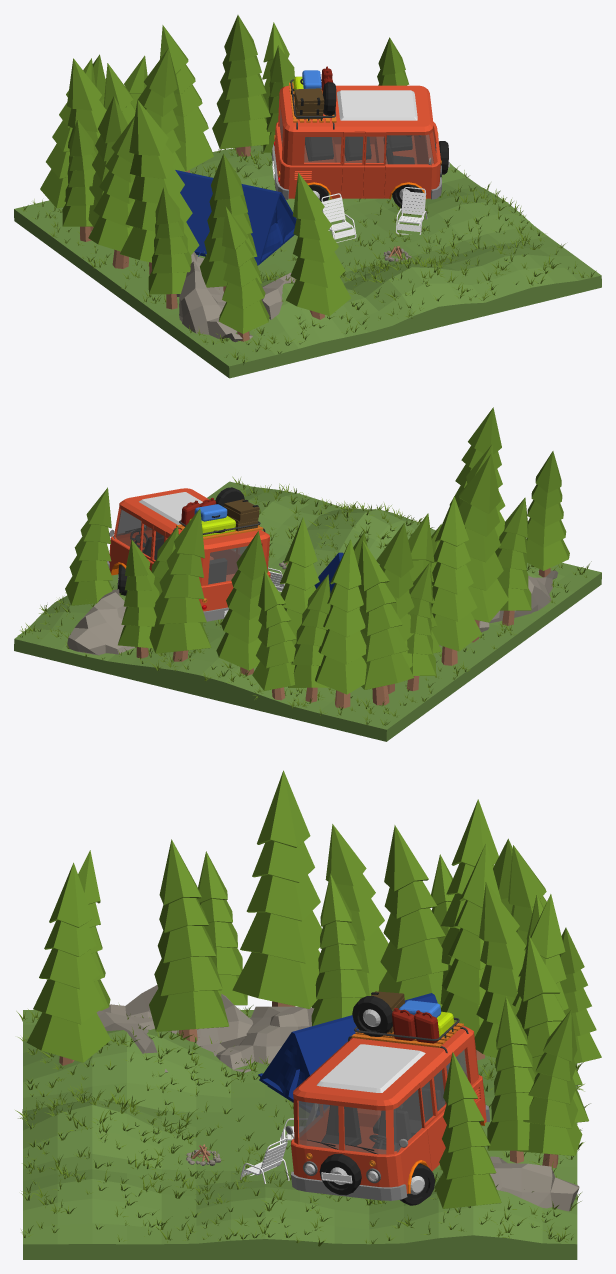
3 views of the same model, one above another, from view 1: azimuth 30°, elevation 25°; view 2: azimuth 150°, elevation 25°; view 3: azimuth 270°, elevation 25° (orthographic). The views are drawn at different scales.
Parts seen in each view (by area): view 1: Cube.019, Cube, object 67, Cone.027, Cone.025, Cone.029, Cube.014, Cone.030, Cone.002, camlar, Cone.026, Cone.009 (+18 smaller); view 2: Cube.019, Cube, Cone.029, Cone.000, Cone.002, Cone.027, Cone.021, object 67, Cone.023, Cone.030, Cone.005, Cone.028 (+14 smaller); view 3: Cube.019, Cube, Cone.027, object 67, Cone.025, Cone.026, Cone.022, Cone.028, Cone.007, camlar, Cone.006, Cone.003 (+27 smaller).
Boxes of the visible parts, x1,y1,x2,y2 form: Cube.019: [14, 145, 601, 378]; Cube: [274, 85, 440, 198]; object 67: [21, 145, 596, 364]; Cone.027: [120, 99, 199, 274]; Cone.025: [286, 172, 350, 319]; Cone.029: [212, 15, 270, 156]; Cube.014: [175, 170, 296, 265]; Cone.030: [218, 206, 269, 341]; Cone.002: [88, 116, 135, 268]; camlar: [279, 110, 435, 164]; Cone.026: [200, 153, 261, 291]; Cone.009: [148, 187, 191, 309]; Cube.019: [14, 481, 601, 741]; Cube: [109, 488, 270, 611]; Cone.029: [149, 508, 211, 661]; Cone.000: [315, 539, 366, 708]; Cone.002: [431, 496, 481, 665]; Cone.027: [458, 453, 508, 642]; Cone.021: [358, 540, 414, 705]; object 67: [18, 476, 591, 726]; Cone.023: [216, 531, 267, 675]; Cone.030: [526, 451, 569, 577]; Cone.005: [252, 570, 296, 700]; Cone.028: [65, 487, 112, 605]; Cube.019: [23, 1010, 577, 1259]; Cube: [291, 1026, 486, 1193]; Cone.027: [232, 770, 322, 1008]; object 67: [15, 1004, 590, 1246]; Cone.025: [26, 862, 110, 1065]; Cone.026: [149, 839, 228, 1041]; Cone.022: [378, 825, 448, 1008]; Cone.028: [434, 1052, 501, 1208]; Cone.007: [517, 1010, 582, 1167]; camlar: [298, 1049, 467, 1154]; Cone.006: [487, 996, 535, 1163]; Cone.003: [474, 882, 525, 1057].
Size of what is drawn, in the model's own units: 1658 by 833 by 1697.
